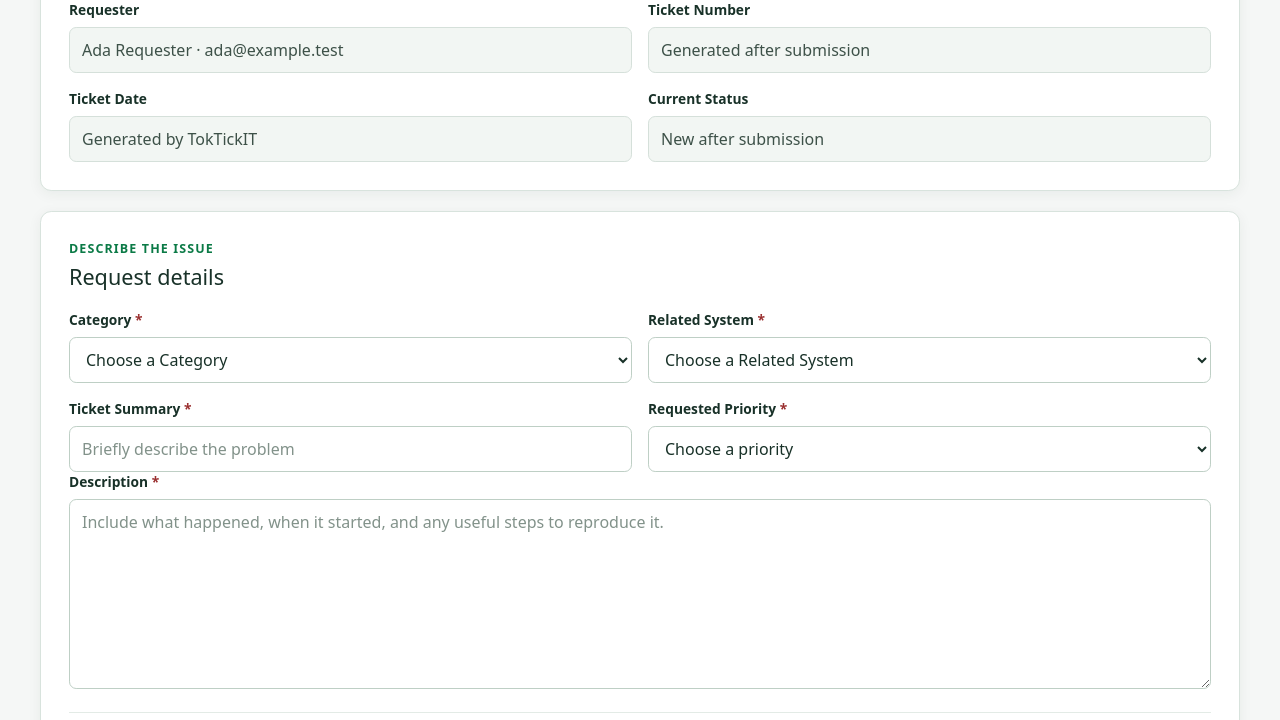
it: Create Ticket page › preserves entered values after a recoverable API failure
This screenshot has width=1280, height=720.
(page scrolled)
Select "Network" in the dropdown labelled "Category *" at {"x": 350, "y": 360}, box [69,337,632,383]
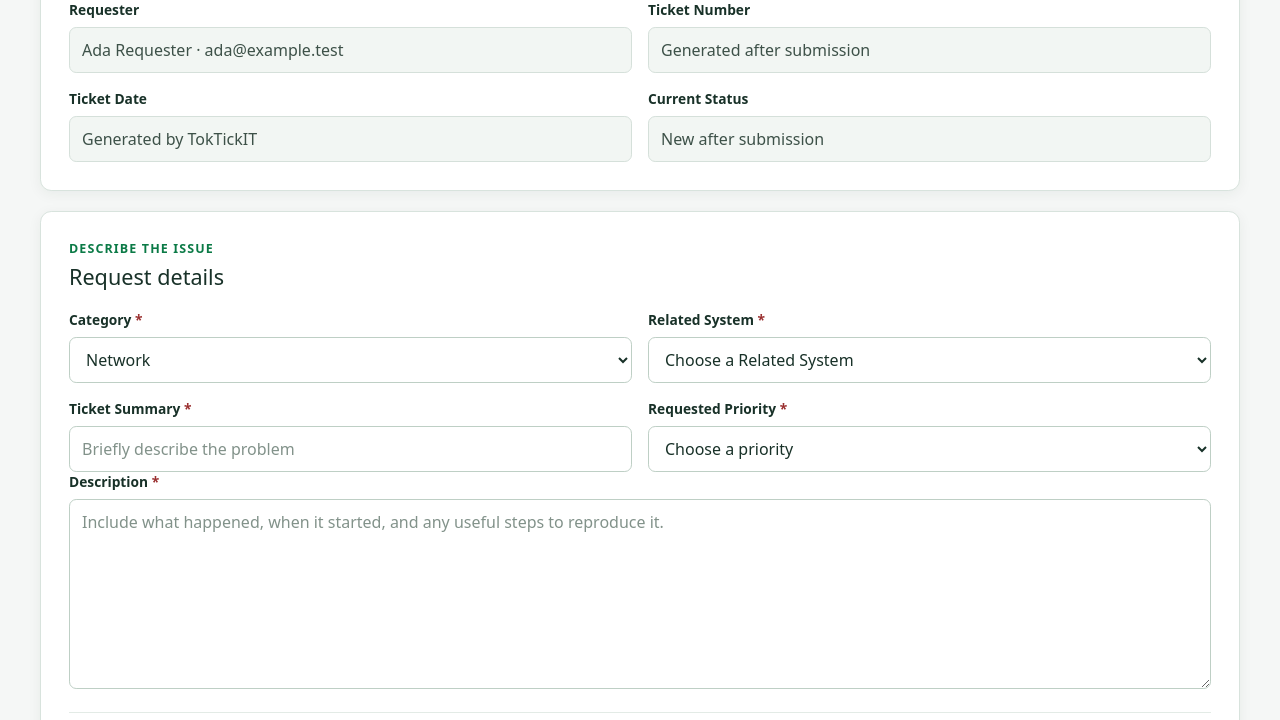
Select "Campus Wi-Fi" in the dropdown labelled "Related System *" at {"x": 930, "y": 360}, box [648,337,1211,383]
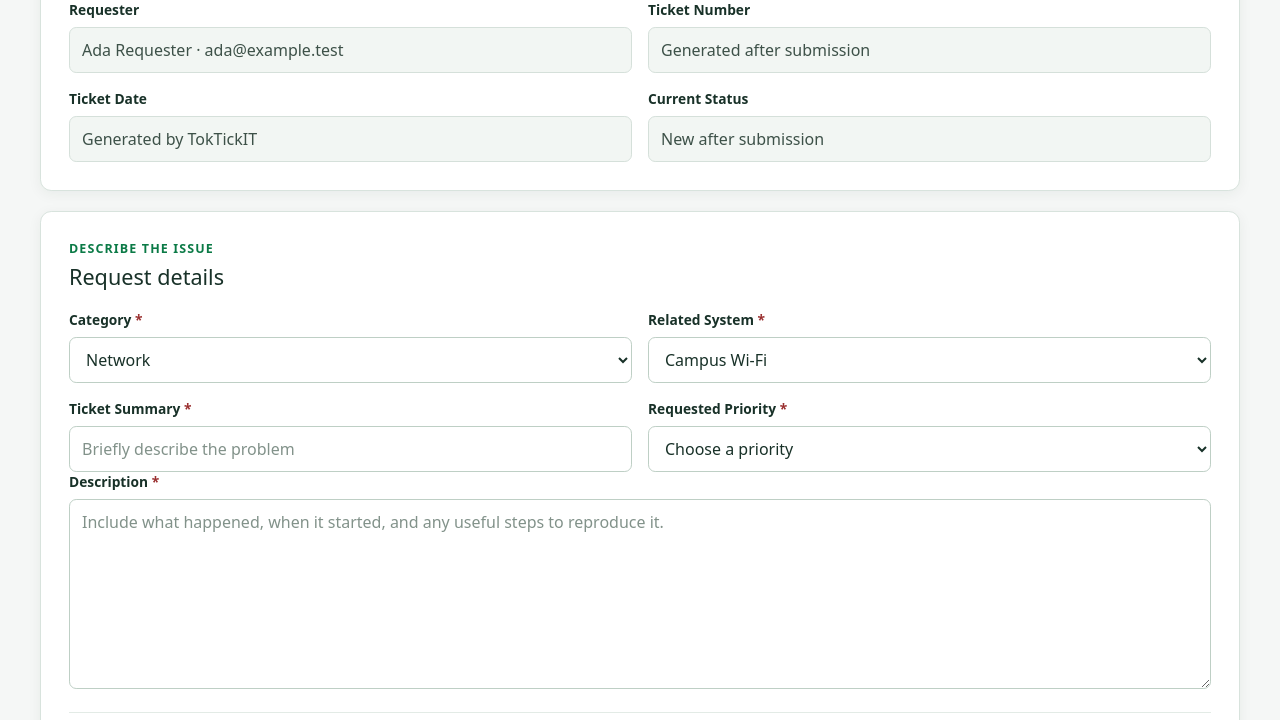
Type "Wi-Fi outage" into the field labelled "Ticket Summary *" at {"x": 350, "y": 449}, box [69,426,632,472]
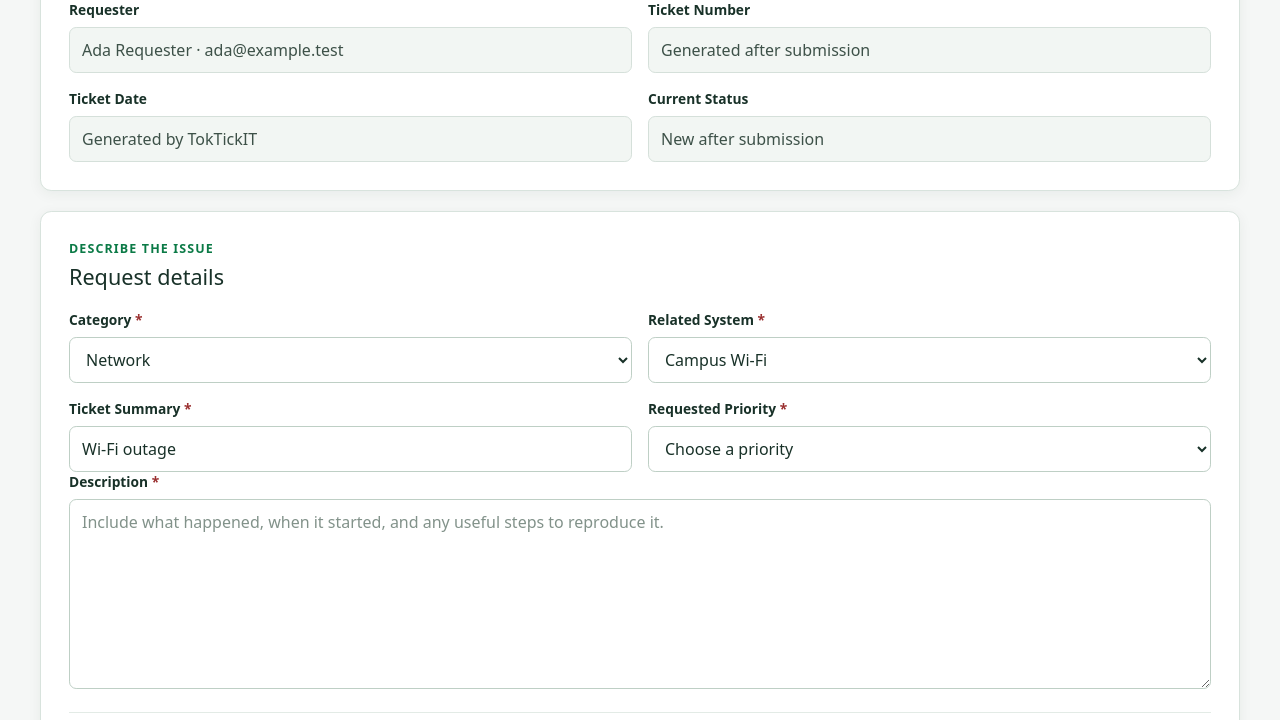
Select "High" in the dropdown labelled "Requested Priority *" at {"x": 930, "y": 449}, box [648,426,1211,472]
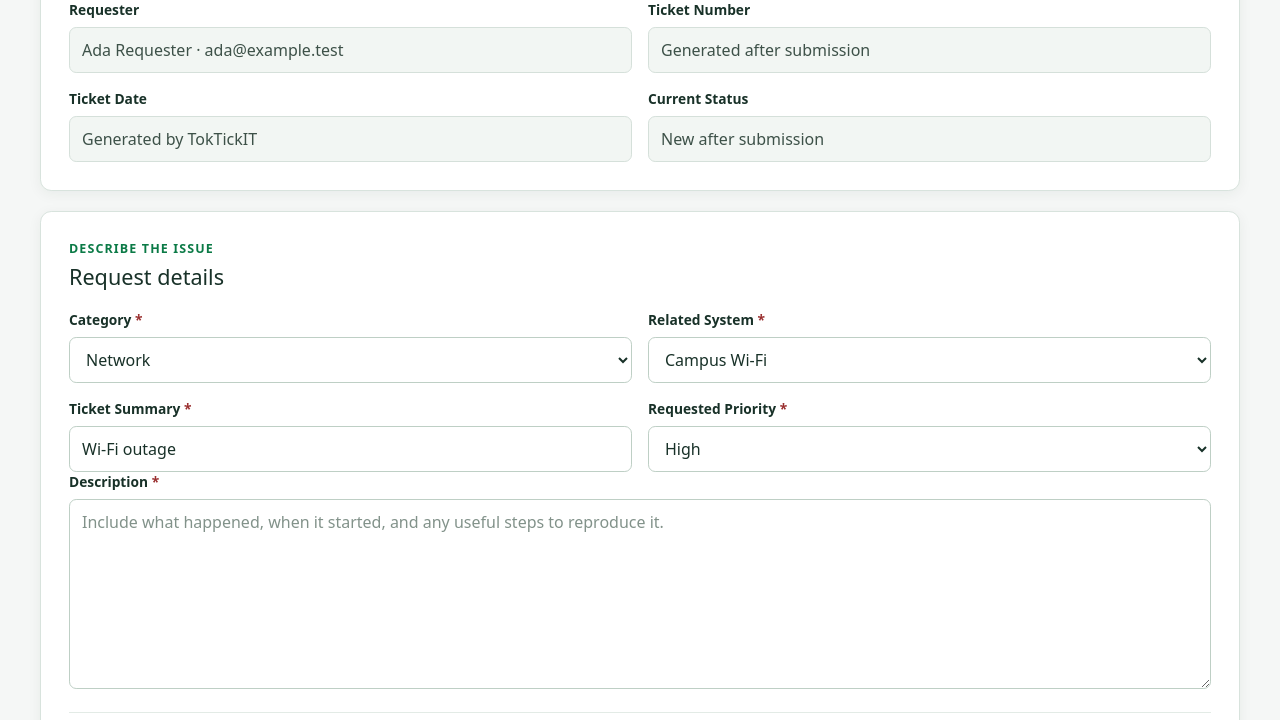
Replace the text in the text box labelled "Description *" with "The requester cannot reach the campus network from the assigned device." at {"x": 640, "y": 594}, box [69,499,1211,689]
(page scrolled)
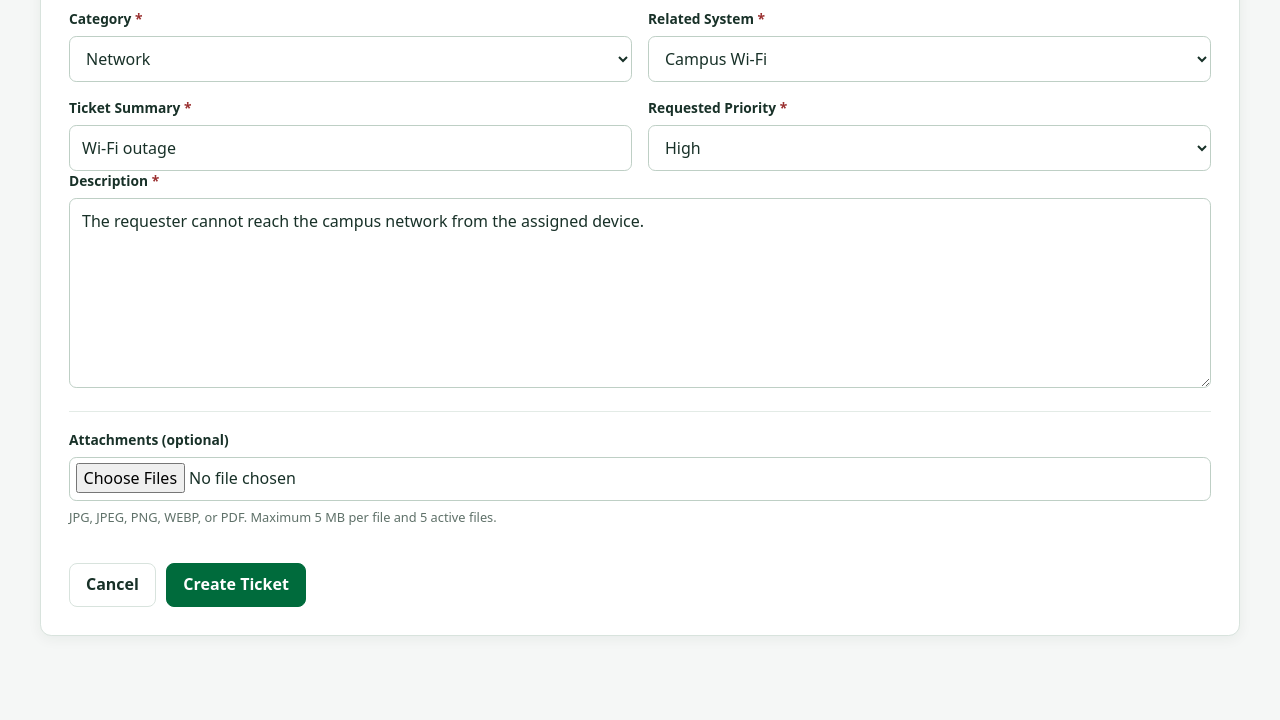
Click the button "Create Ticket" at {"x": 236, "y": 585}, box [166,563,306,607]
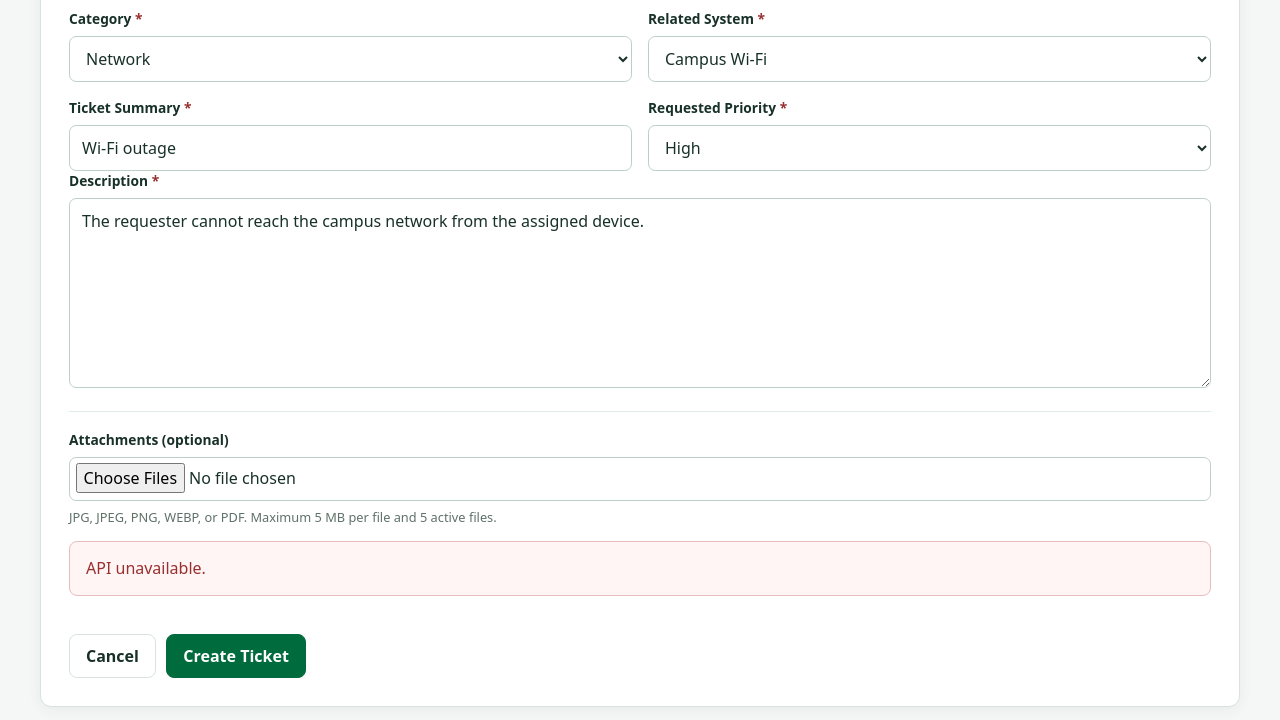
Result: the text "API unavailable." is shown at [69,541,1211,596]
